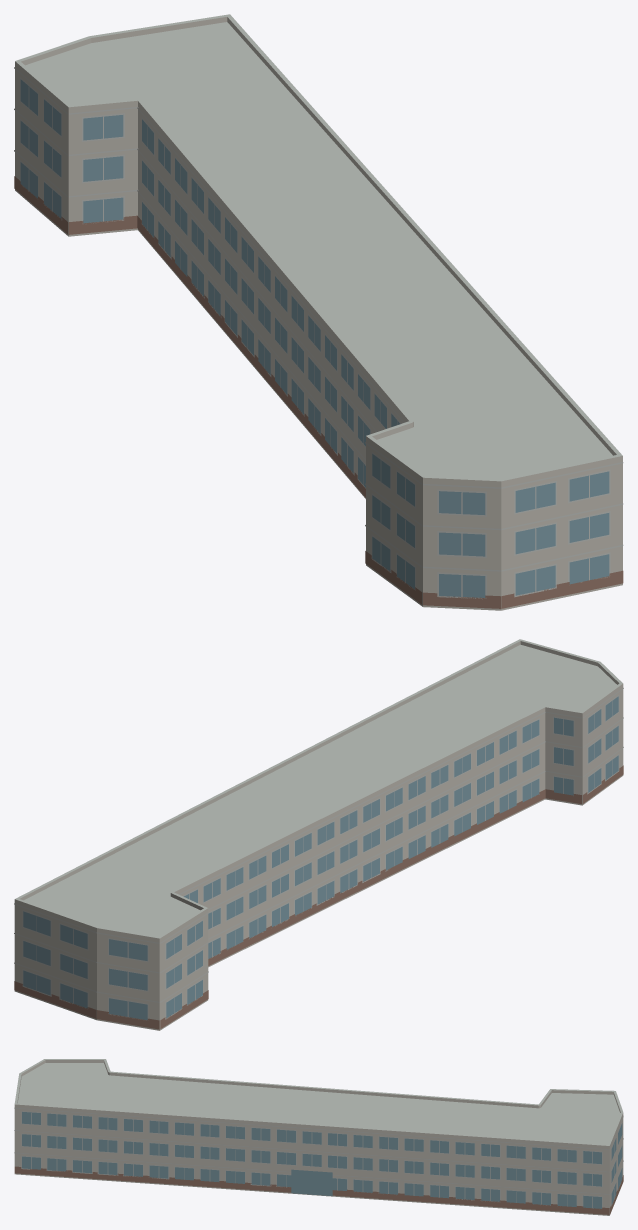
Rendered from public-f96be448-3bcc-4843-b6e8-ab9570f45fda.glb.
The picture shows the model from 3 angles, top to bottom: view 1: azimuth 30°, elevation 25°; view 2: azimuth 150°, elevation 25°; view 3: azimuth 270°, elevation 25°; orthographic projection. The views are drawn at different scales.
Parts seen in each view (by area): view 1: public-f96be448-3bcc-4843-b6e8-ab9570f45fda; view 2: public-f96be448-3bcc-4843-b6e8-ab9570f45fda; view 3: public-f96be448-3bcc-4843-b6e8-ab9570f45fda.
Part boxes in pixels (left/top/right/bottom): public-f96be448-3bcc-4843-b6e8-ab9570f45fda: left=14, top=14, right=623, bottom=610; public-f96be448-3bcc-4843-b6e8-ab9570f45fda: left=14, top=639, right=623, bottom=1030; public-f96be448-3bcc-4843-b6e8-ab9570f45fda: left=14, top=1059, right=623, bottom=1215.
Bounding box in the file's own units: 24.58 × 9.15 × 72.35.
